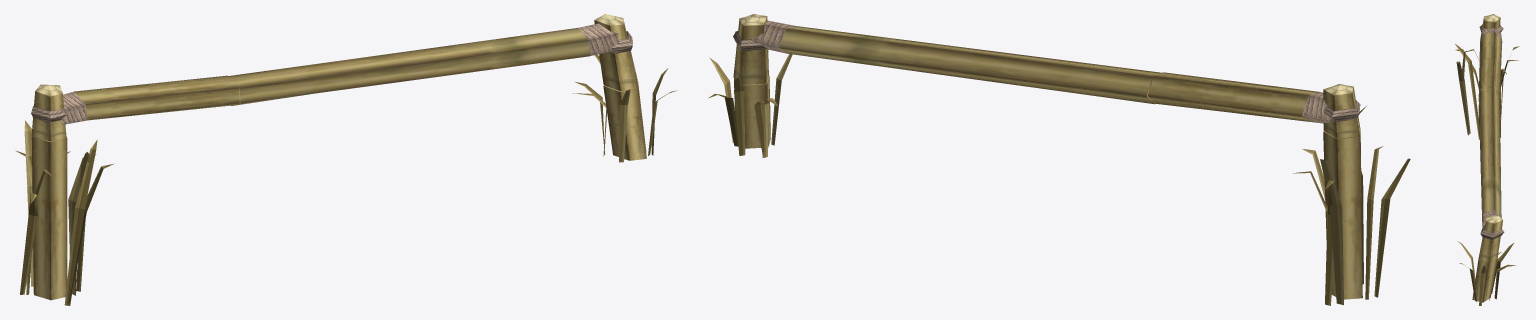
File: C3SMLOWFNCEHDD.obj
3 renders of one model, left to right at view 1: azimuth 30°, elevation 25°; view 2: azimuth 150°, elevation 25°; view 3: azimuth 270°, elevation 25°, orthographic. The views are drawn at different scales.
Visible parts, largest first — view 1: Node 0, Node 4, Node 2, Node 5, Node 3; view 2: Node 4, Node 0, Node 2, Node 5, Node 3; view 3: Node 4, Node 0, Node 2, Node 5, Node 3.
Part boxes in pixels (left/top/right/bottom): Node 0: left=15, top=54, right=676, bottom=305; Node 4: left=228, top=23, right=618, bottom=105; Node 2: left=60, top=75, right=239, bottom=124; Node 5: left=594, top=14, right=638, bottom=91; Node 3: left=31, top=84, right=67, bottom=141; Node 4: left=751, top=20, right=1162, bottom=104; Node 0: left=708, top=54, right=1410, bottom=305; Node 2: left=1148, top=72, right=1331, bottom=123; Node 5: left=733, top=14, right=768, bottom=84; Node 3: left=1323, top=84, right=1360, bottom=138; Node 4: left=1478, top=87, right=1501, bottom=227; Node 0: left=1455, top=40, right=1519, bottom=305; Node 2: left=1478, top=27, right=1502, bottom=97; Node 5: left=1478, top=215, right=1504, bottom=262; Node 3: left=1479, top=14, right=1503, bottom=39.
Size of the model in its own units: 12.96 by 3.89 by 1.94.
10 materials, 10 textured.
